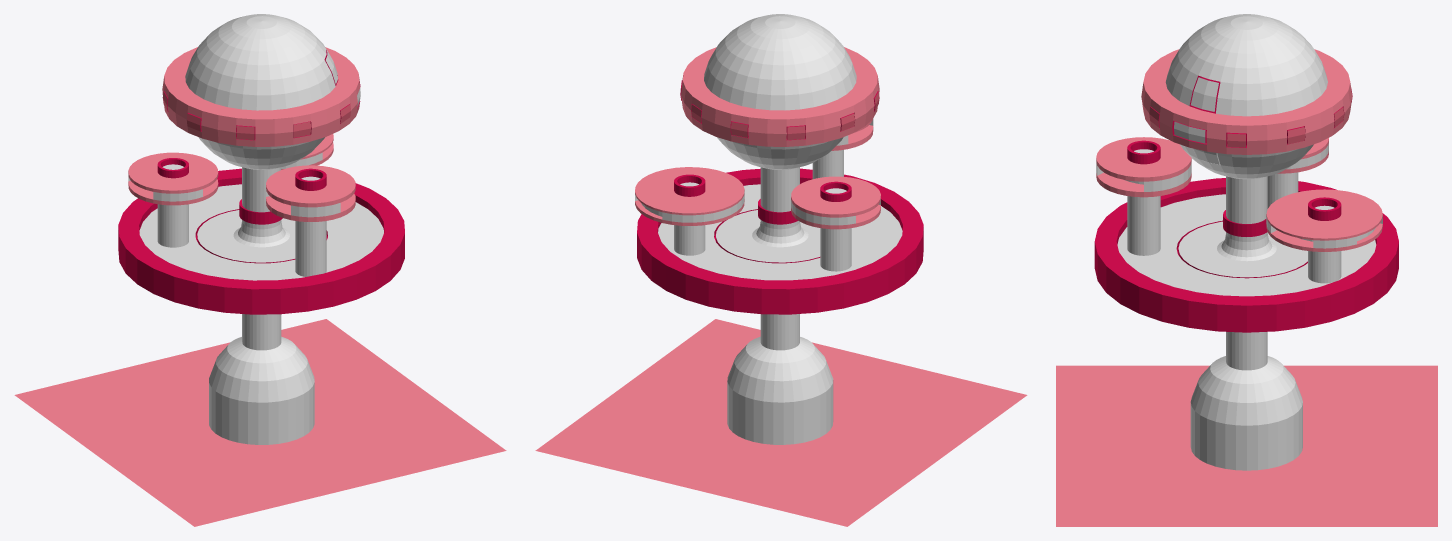
The model's file is mobile_1_pink.fbx.
3 renders of one model, left to right at view 1: azimuth 30°, elevation 25°; view 2: azimuth 150°, elevation 25°; view 3: azimuth 270°, elevation 25°, orthographic. The views are drawn at different scales.
Visible parts, largest first — view 1: Cylinder.003, Plane; view 2: Cylinder.003, Plane; view 3: Cylinder.003, Plane.
Part boxes in pixels (x1,y1,x2,y2): Cylinder.003: [118, 14, 404, 444]; Plane: [14, 319, 506, 526]; Cylinder.003: [635, 14, 923, 444]; Plane: [535, 319, 1027, 526]; Cylinder.003: [1094, 14, 1398, 470]; Plane: [1056, 365, 1437, 526].
Size of the model in its own units: 1000 by 1249 by 1000.
